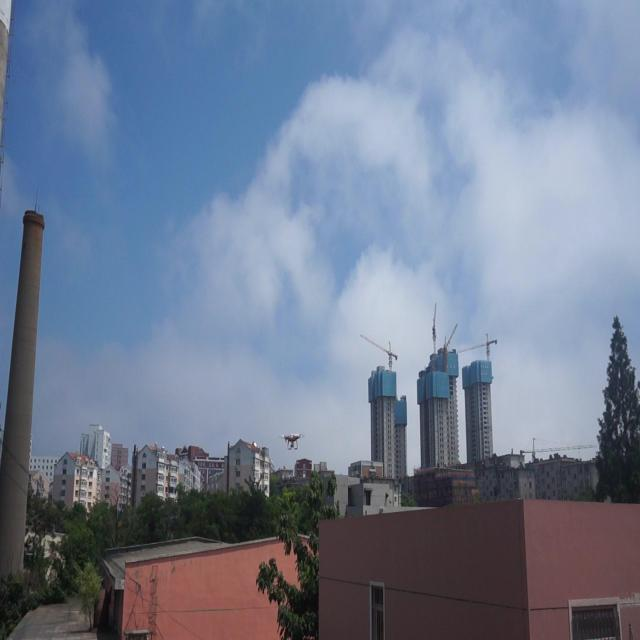drone: (281, 431, 304, 452)
